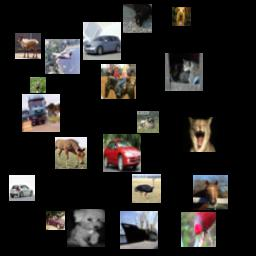airplane: (45, 39, 80, 74)
automobile: (103, 134, 141, 172), (83, 22, 121, 60), (9, 175, 35, 201), (46, 211, 65, 230)
bird: (181, 212, 216, 247), (132, 174, 161, 203)
cat: (165, 53, 203, 91), (183, 117, 218, 152), (123, 4, 152, 33)
deer: (15, 33, 41, 59)
dog: (67, 209, 105, 247), (137, 111, 159, 133), (172, 7, 191, 26)
frog: (30, 77, 46, 93)
ship: (120, 211, 158, 249)
truck: (22, 94, 60, 132)
